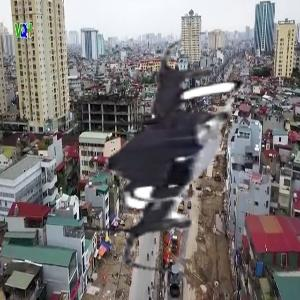drone: (38, 25, 293, 280)
